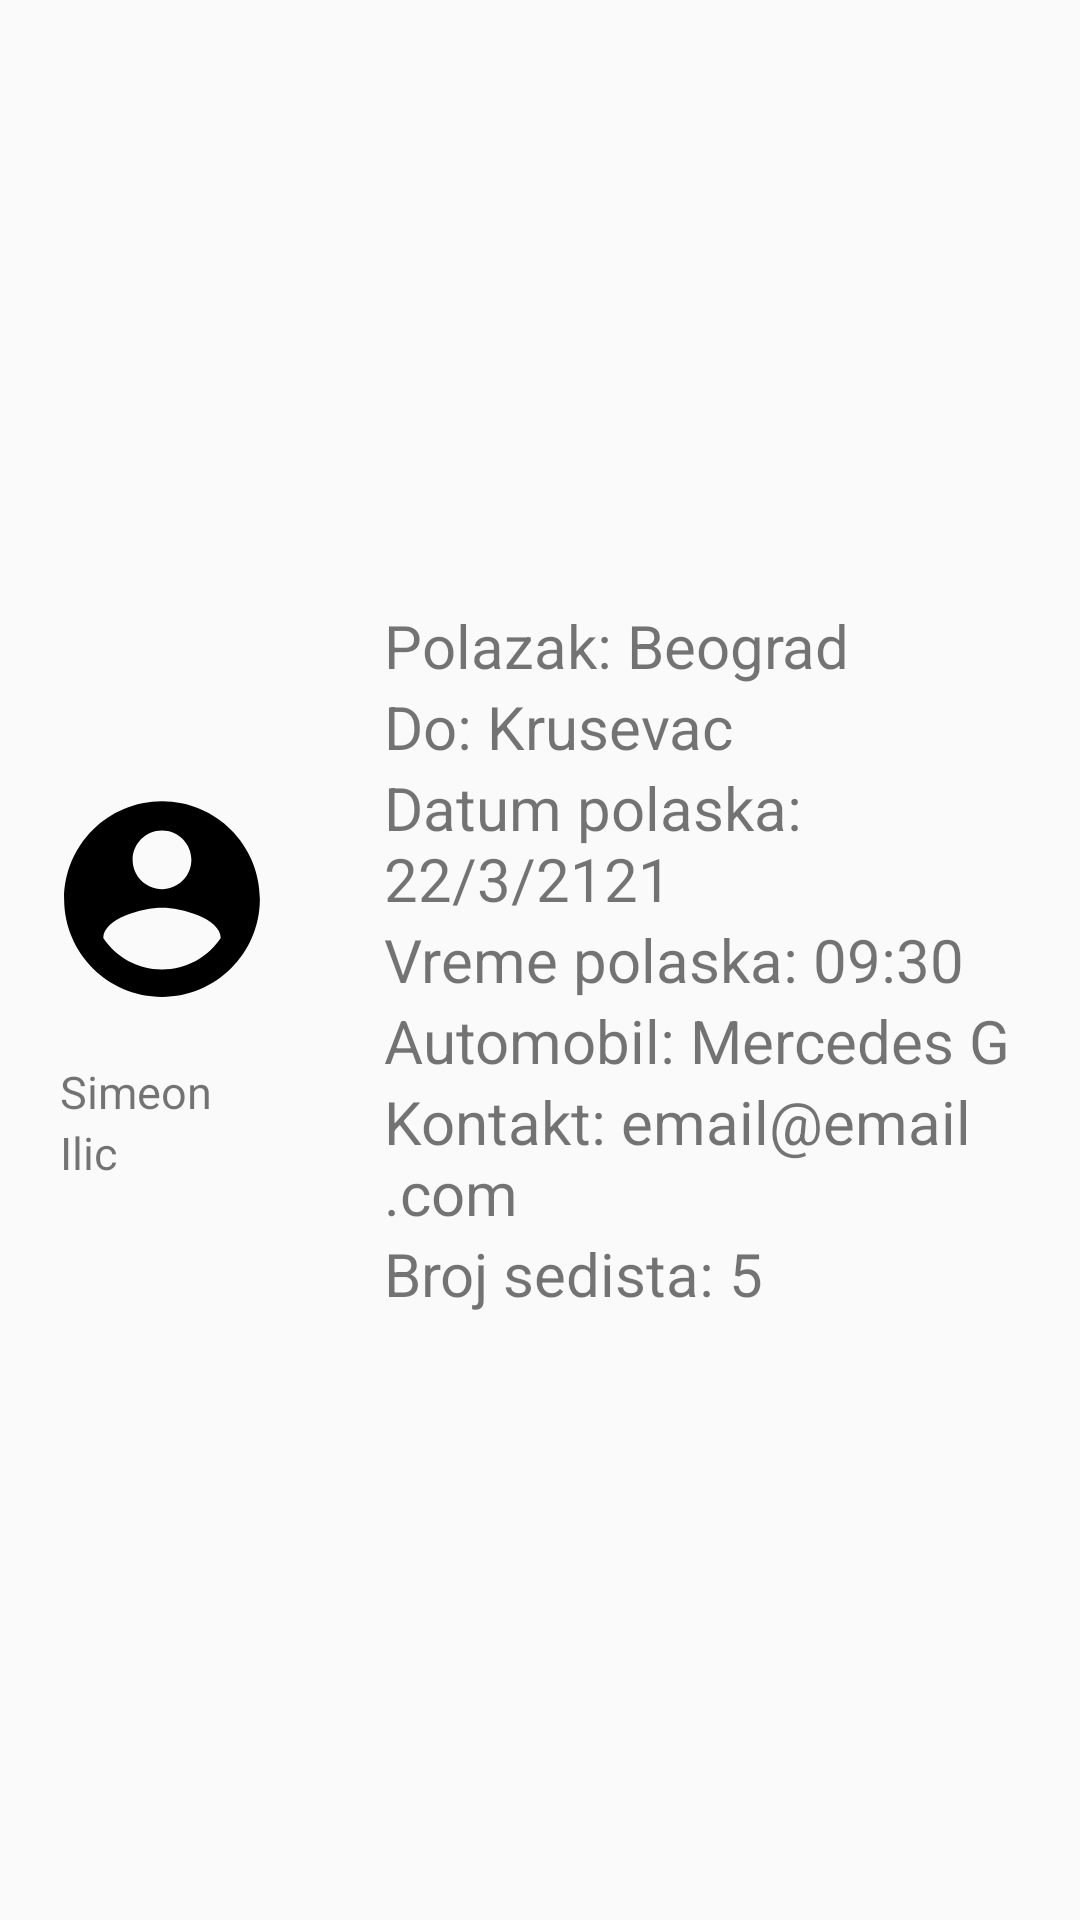

Icon bounding boxes for this 1080*1920 phone screenshot, format [left=x1, top=y1, right=x2, bottom=y2]:
user: [left=64, top=801, right=260, bottom=997]
